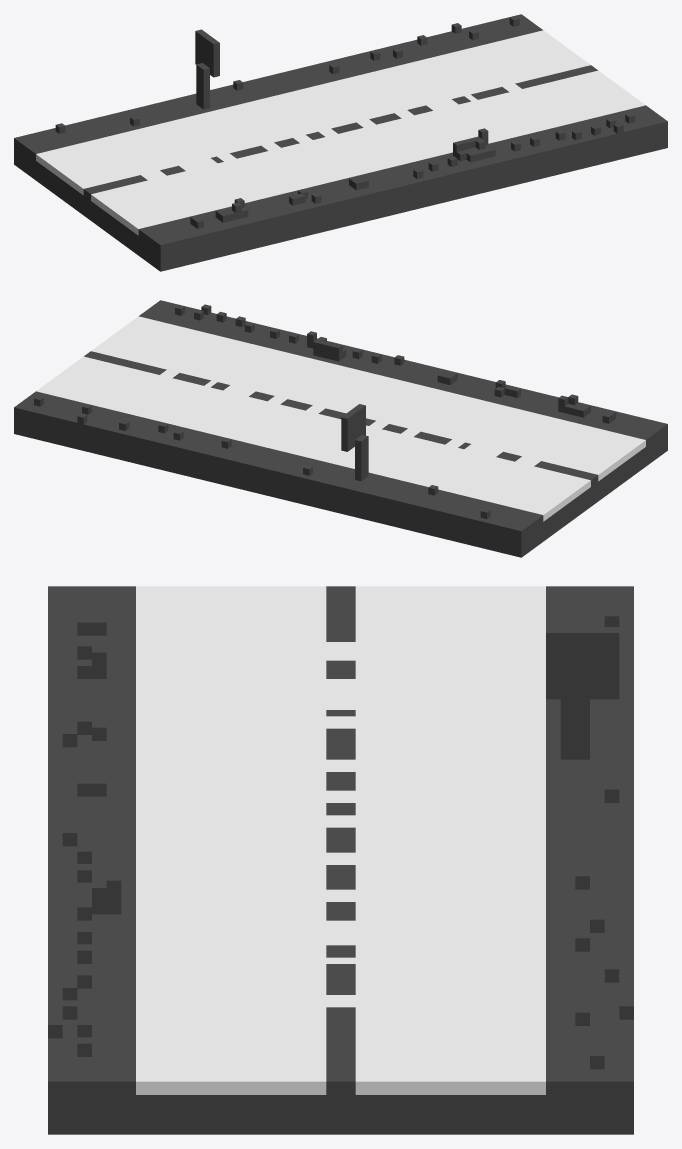
Rendered from Calle.obj.
3 views of the same model, one above another, from view 1: azimuth 30°, elevation 25°; view 2: azimuth 150°, elevation 25°; view 3: azimuth 270°, elevation 25° (orthographic). The views are drawn at different scales.
Size of the model in its own units: 8 by 1.4 by 4.
